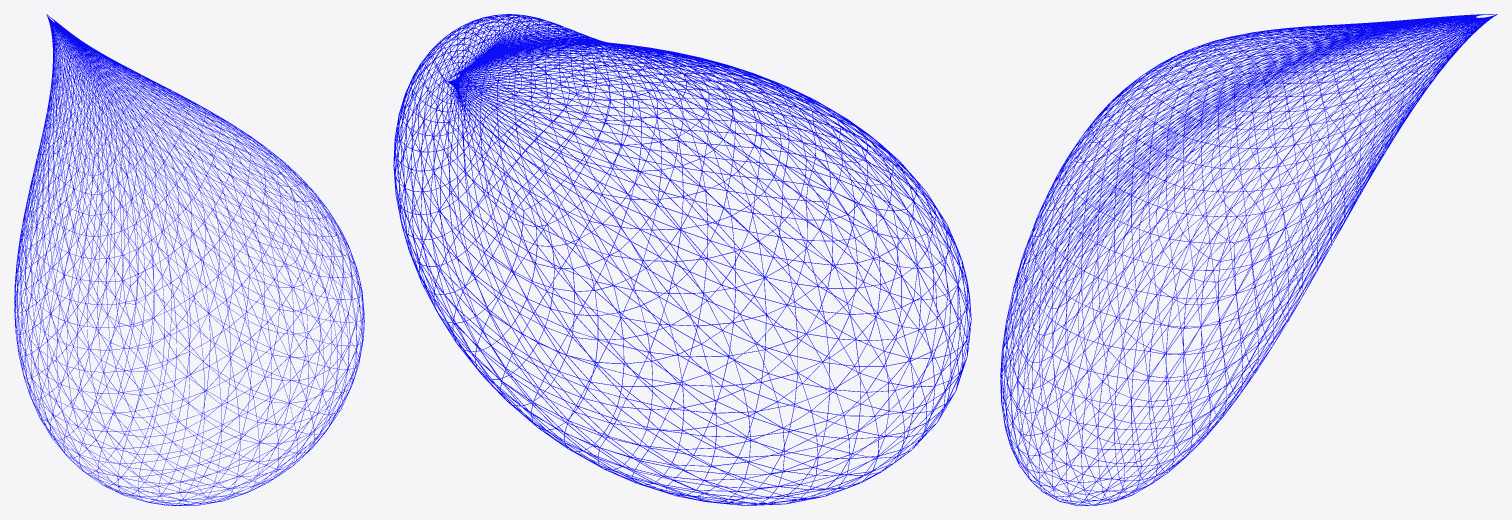
Rendered from Form5.glb.
3 renders of one model, left to right at view 1: azimuth 30°, elevation 25°; view 2: azimuth 150°, elevation 25°; view 3: azimuth 270°, elevation 25°, orthographic. The views are drawn at different scales.
Size of the model in its own units: 1.84 by 1.97 by 1.89.
